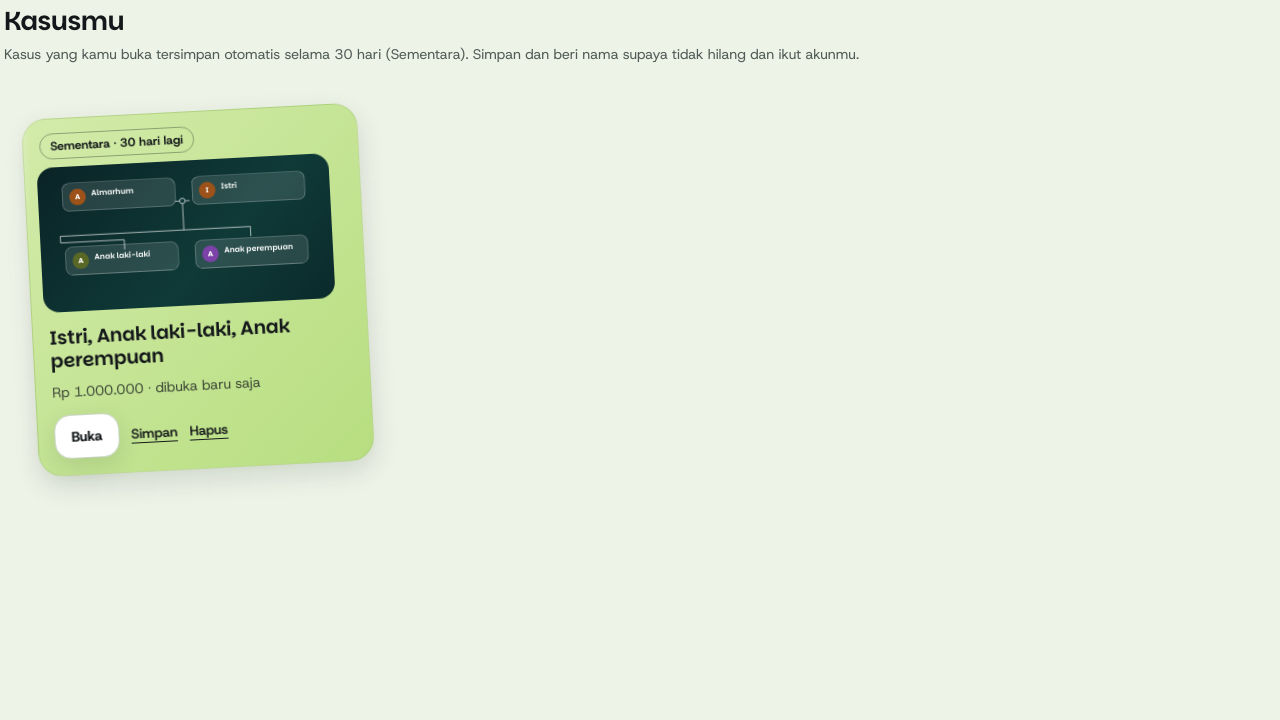
Scenario: Simpan kasus sementara: beri nama lewat dialog, jadi tersimpan
Step 1. Click the button with aria-label "Simpan Istri" → (154, 433), box [130,412,179,454]
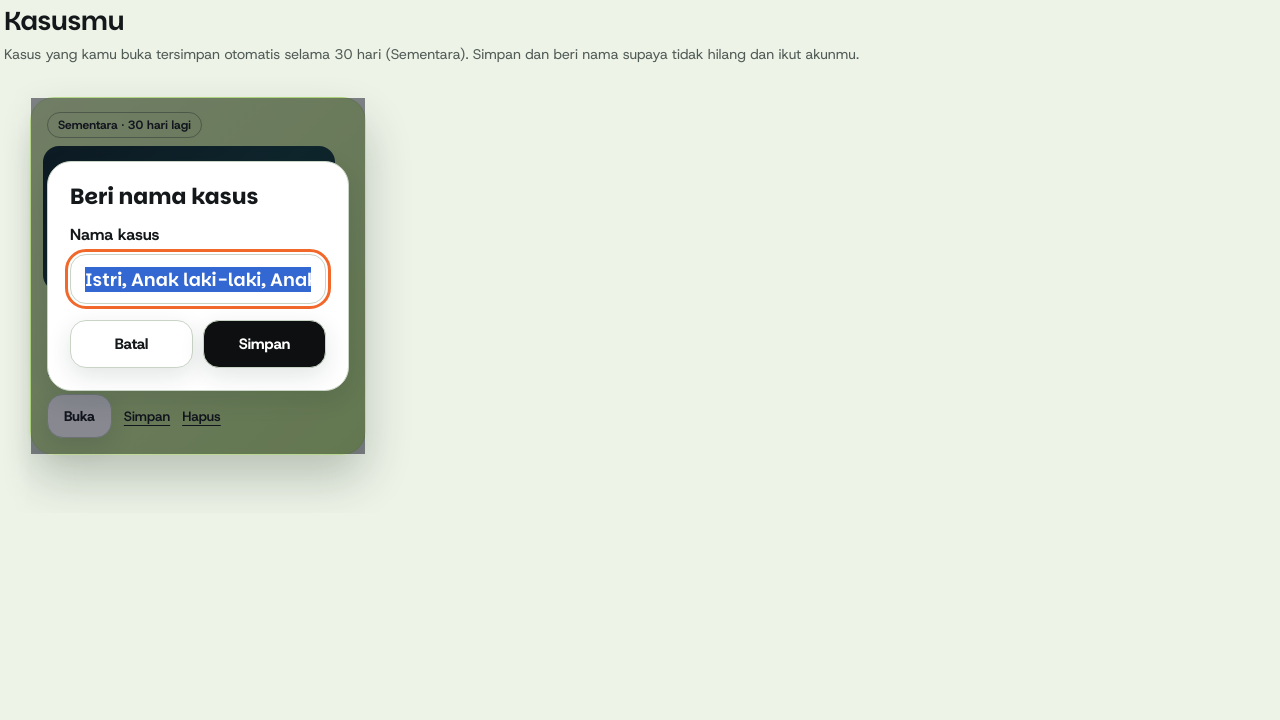
Step 2. Replace the text in the field labelled "Nama kasus" with "Keluarga Q" → (198, 279), box [70,254,326,304]
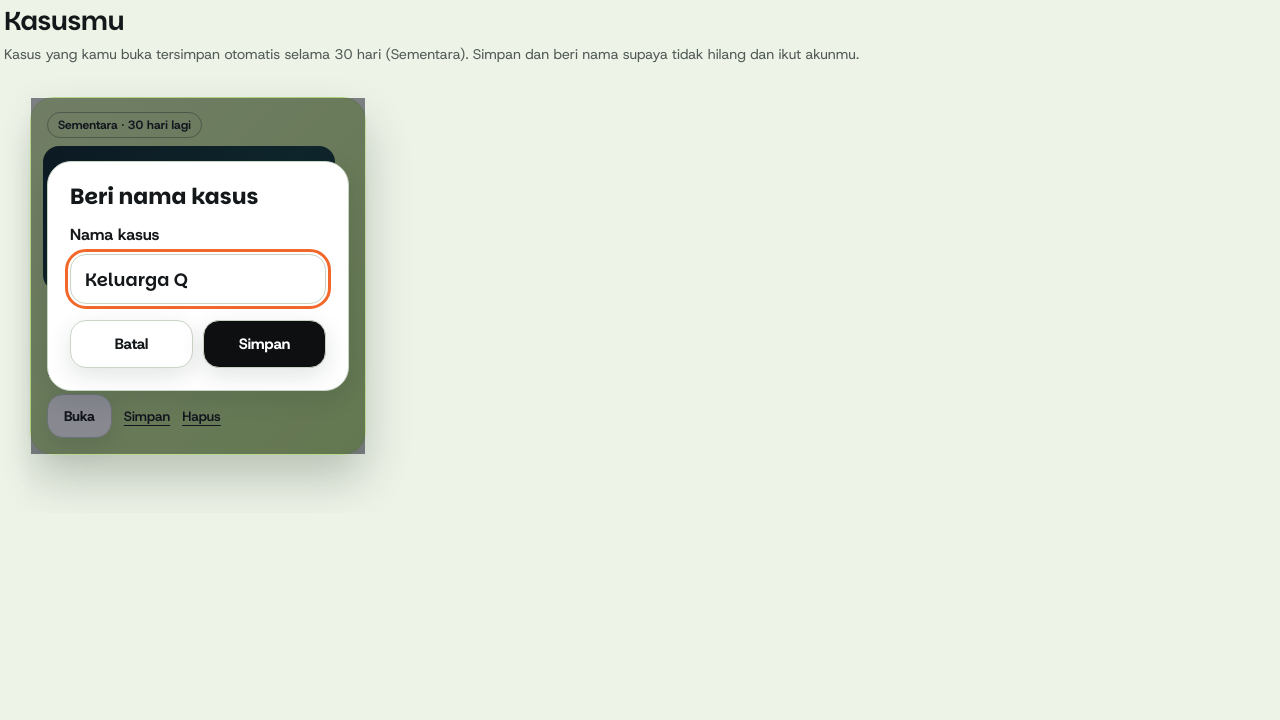
Step 3. Click the button "Simpan" → (264, 344), box [203,320,326,368]
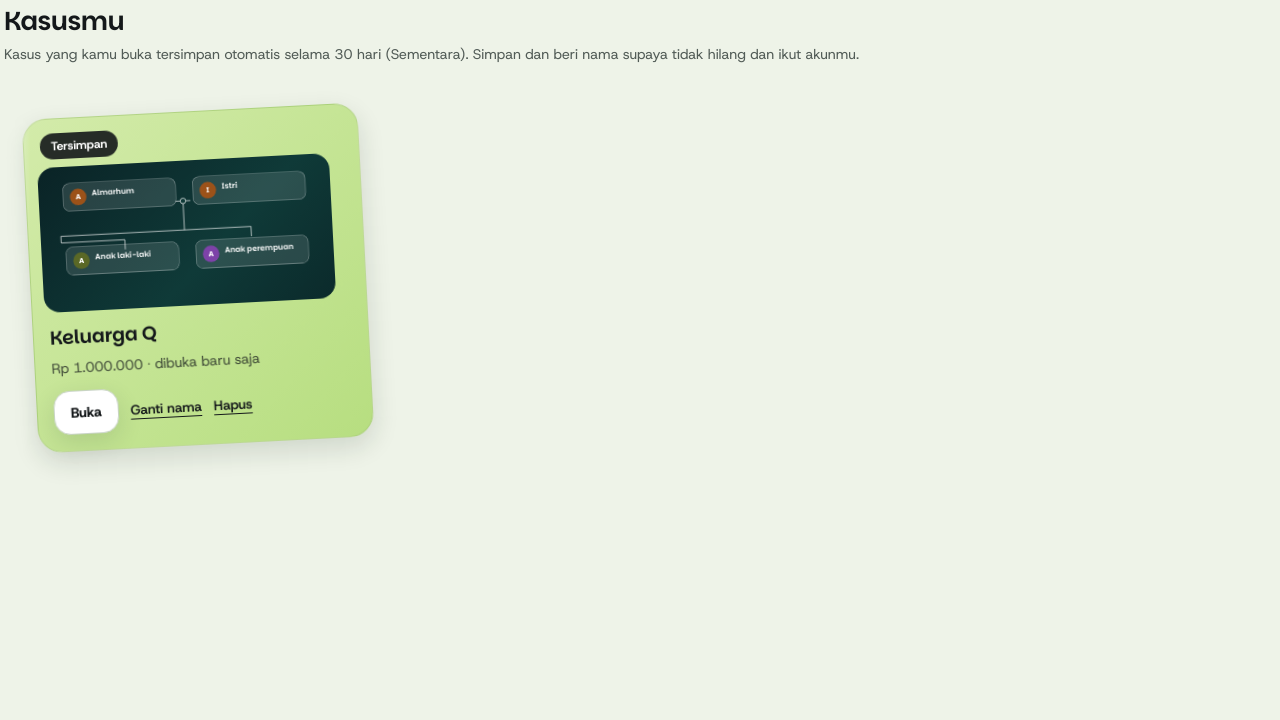
Check: the heading "Keluarga Q" is shown, box [49,319,157,352]
Check: the text "Tersimpan" is shown, box [39,130,119,160]
